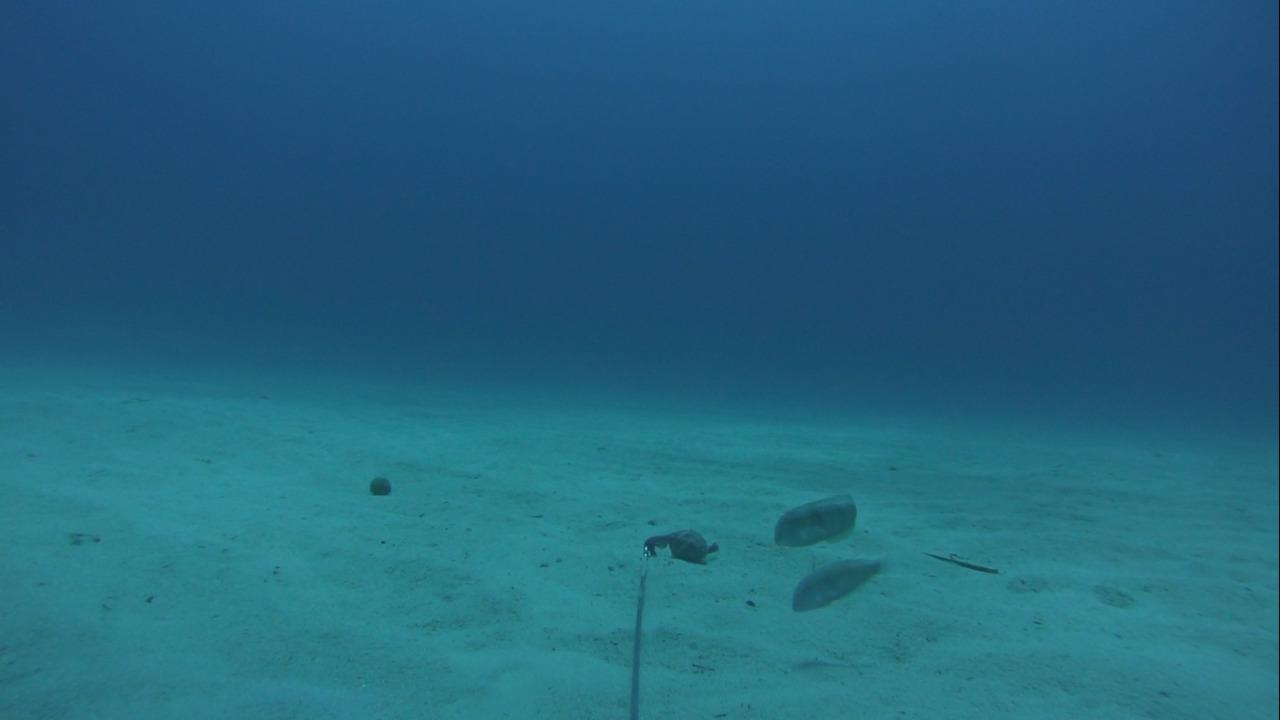raor: (786, 556, 889, 615), (771, 490, 862, 550)
